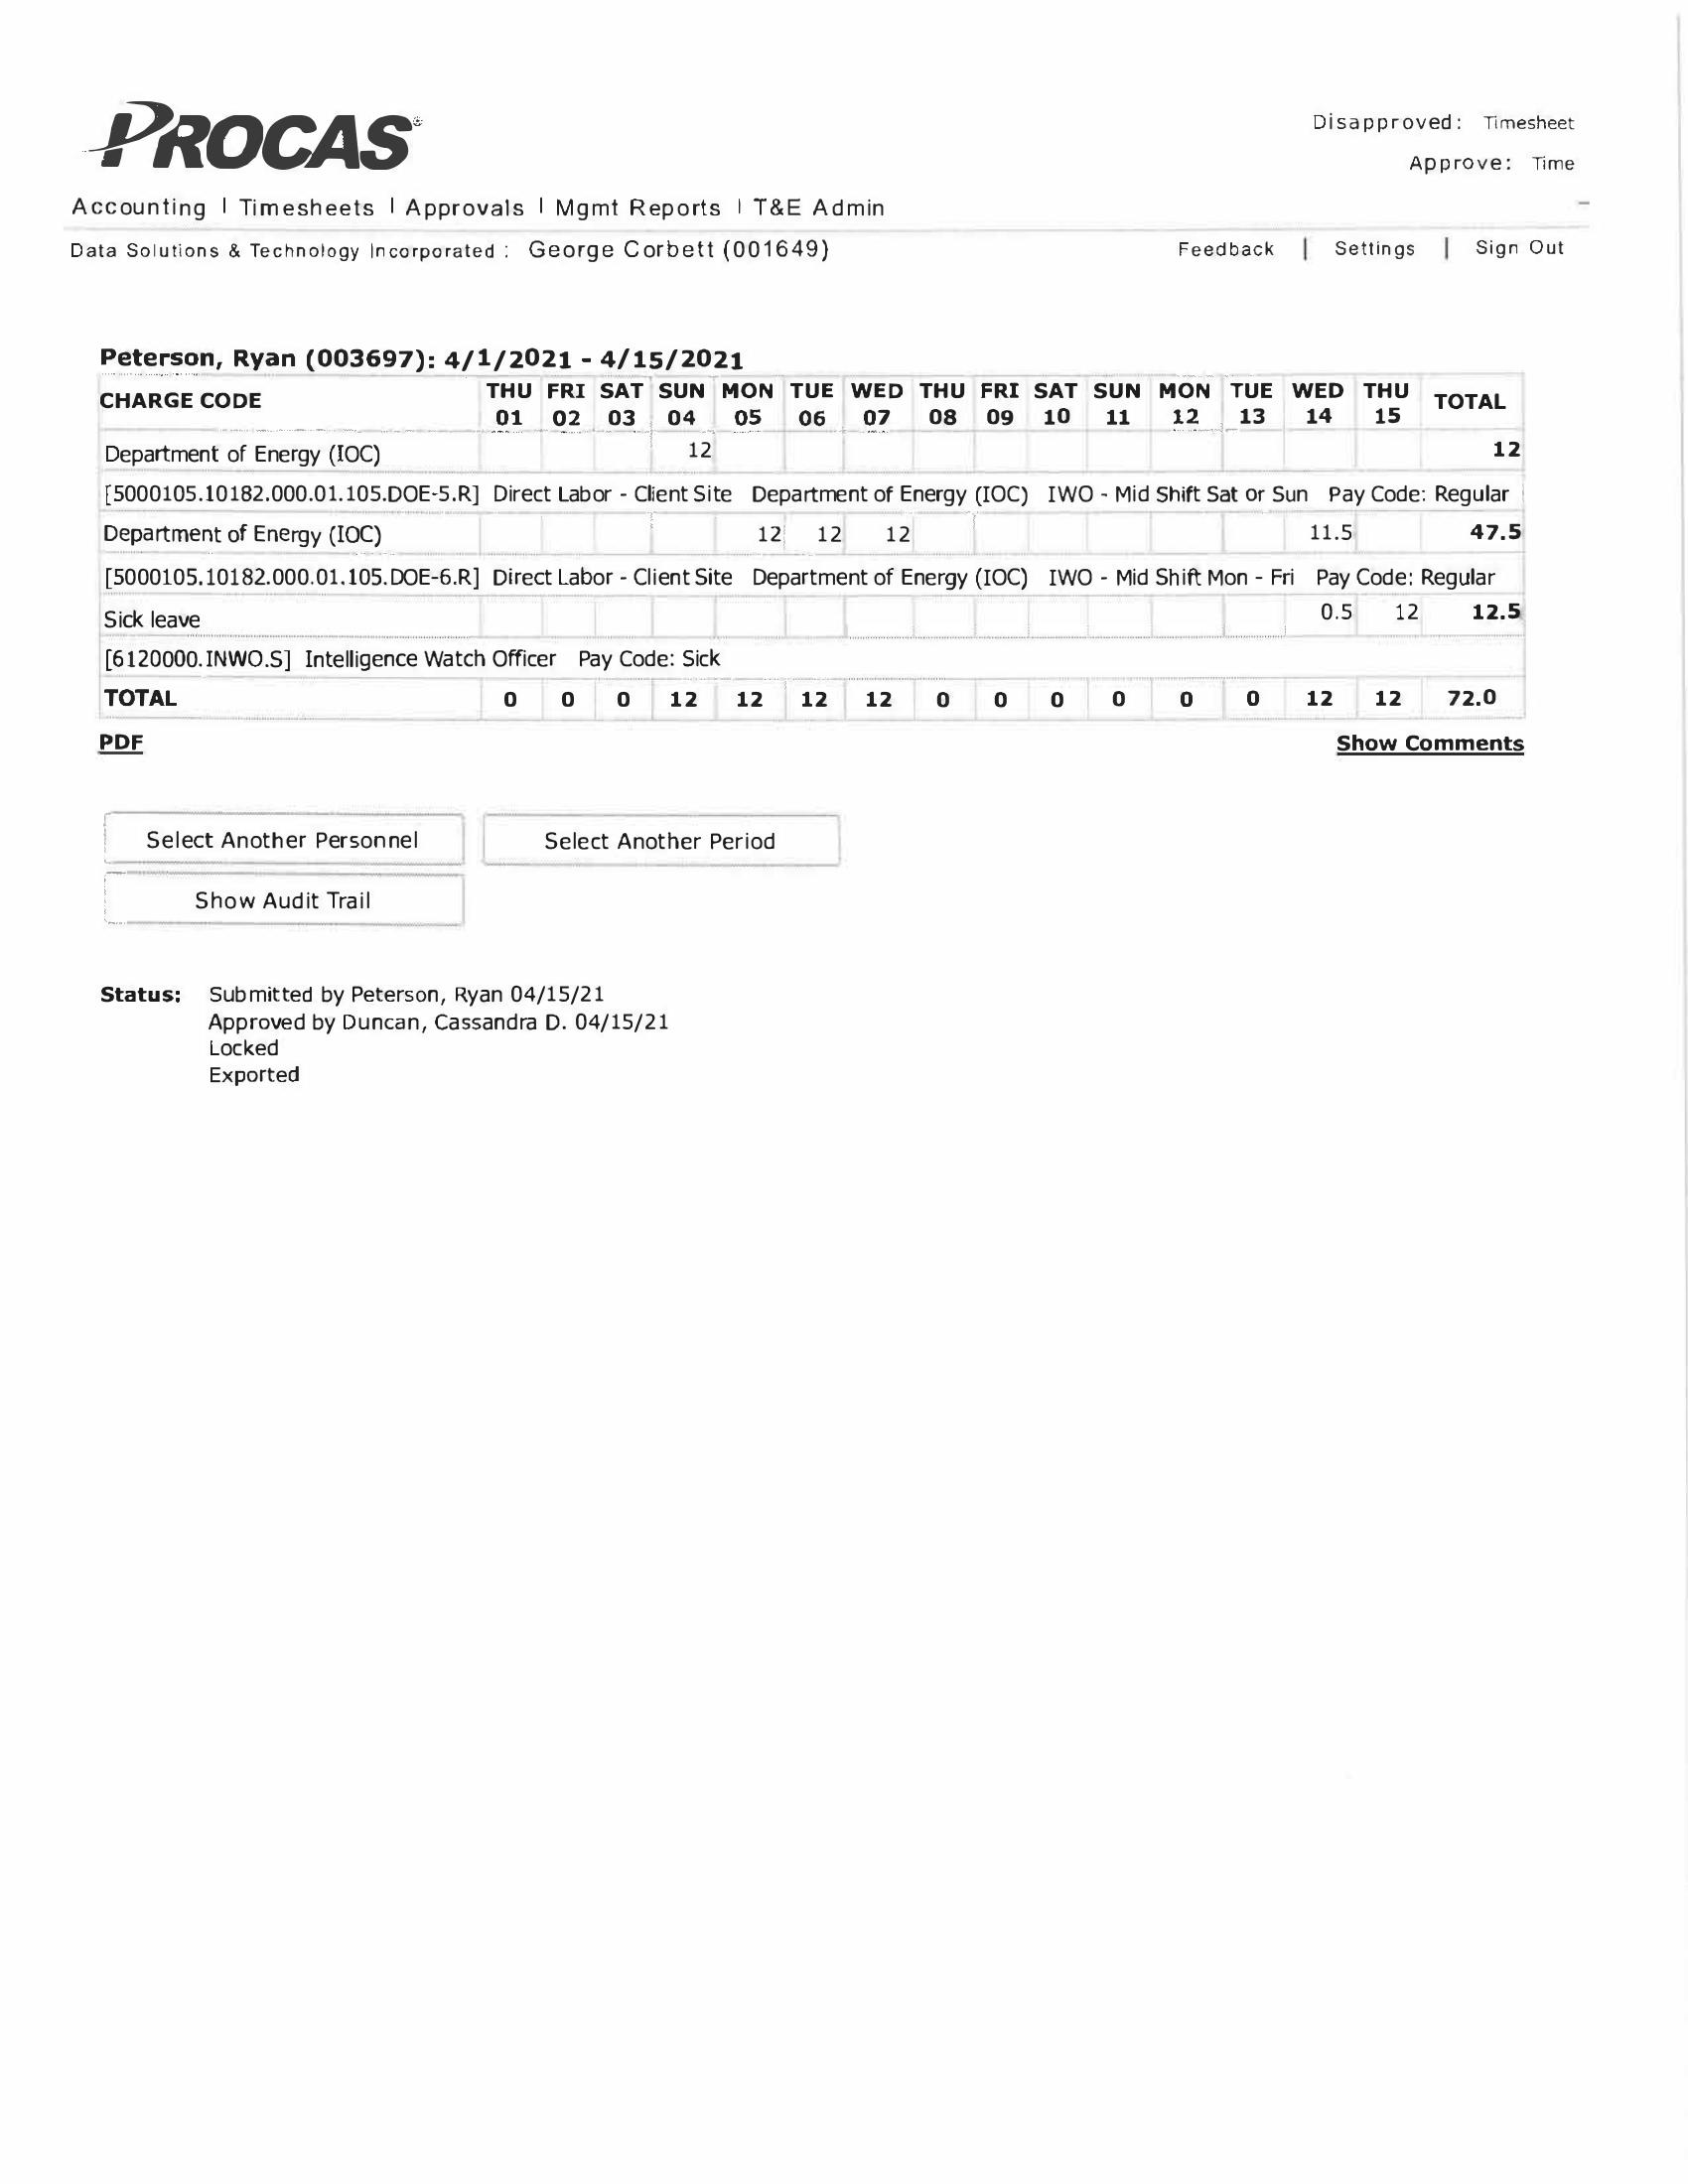table: (90, 370, 1537, 723)
